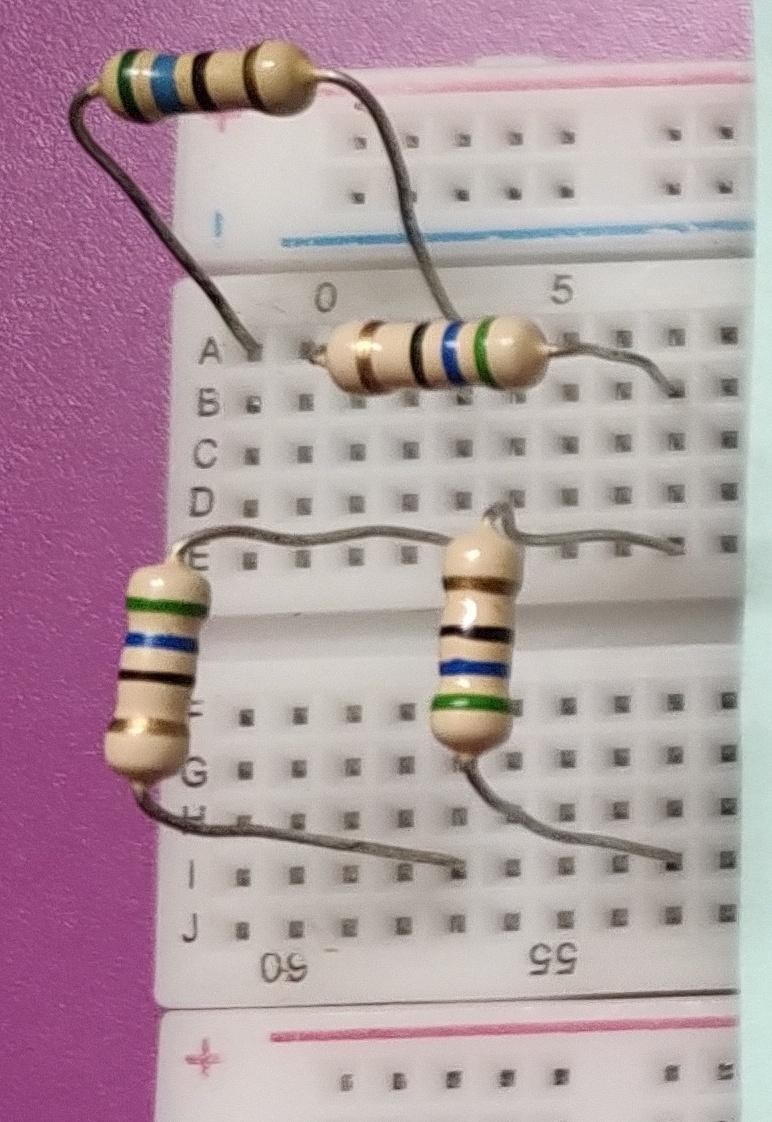resistor: (413, 518, 543, 792), (301, 293, 566, 425), (88, 543, 216, 813), (88, 28, 338, 146)
